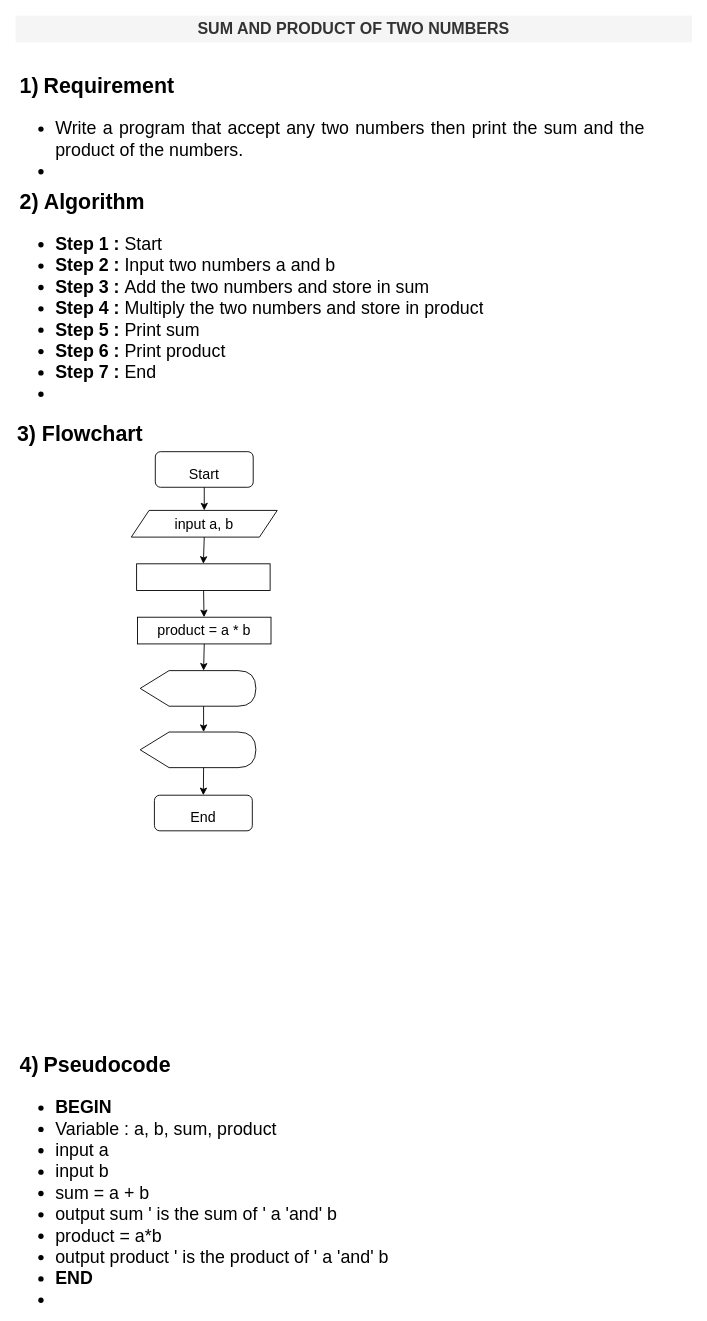
Image size: 707x1321. Some labels were removed from this diagram. The shapes that lost their labels are listed below. From the top down, each one's centre as x and y in pixels, then its label:
(x=203, y=577): sum = a + b
(x=197, y=688): print sum
(x=197, y=749): print product
